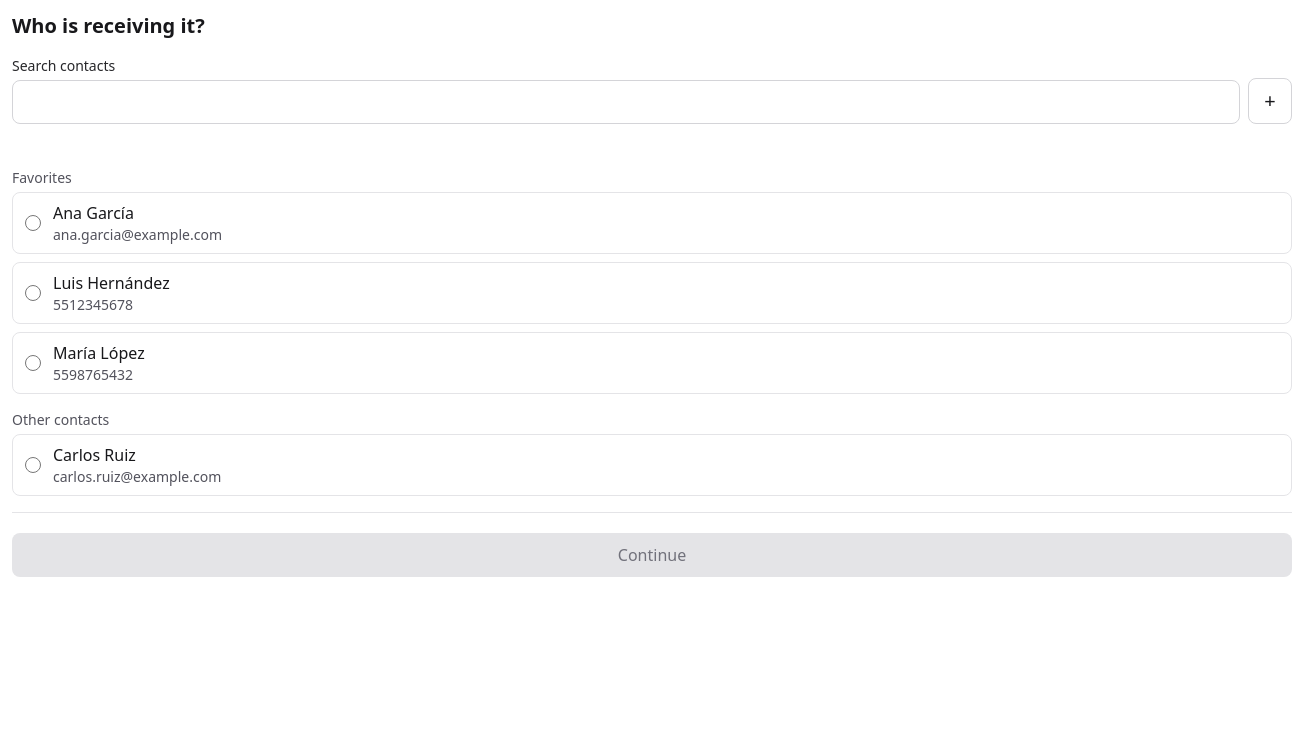
it: RecipientStep › Continue › asks for a recipient when none is selected
The image size is (1304, 732).
Click the button "Continue" at (652, 555), box [12,533,1292,577]
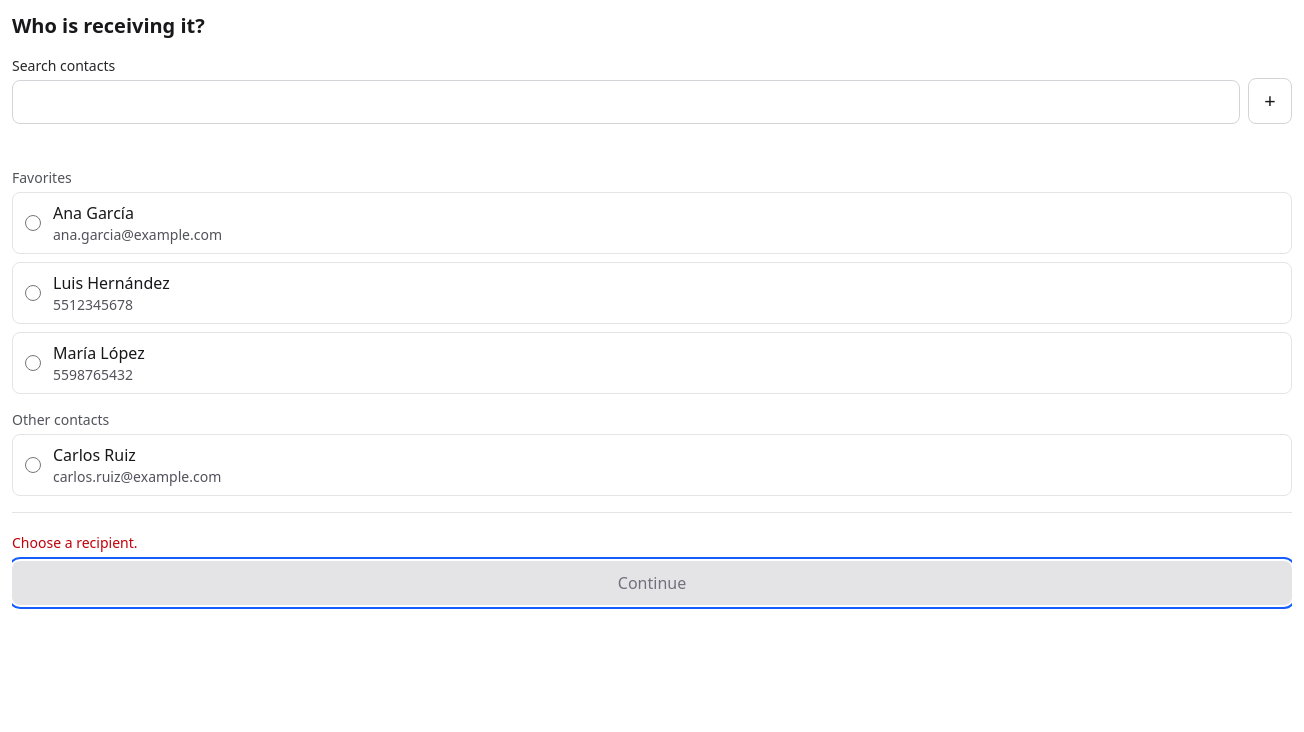
Check: the message reads "Choose a recipient.", box [12,533,138,552]
